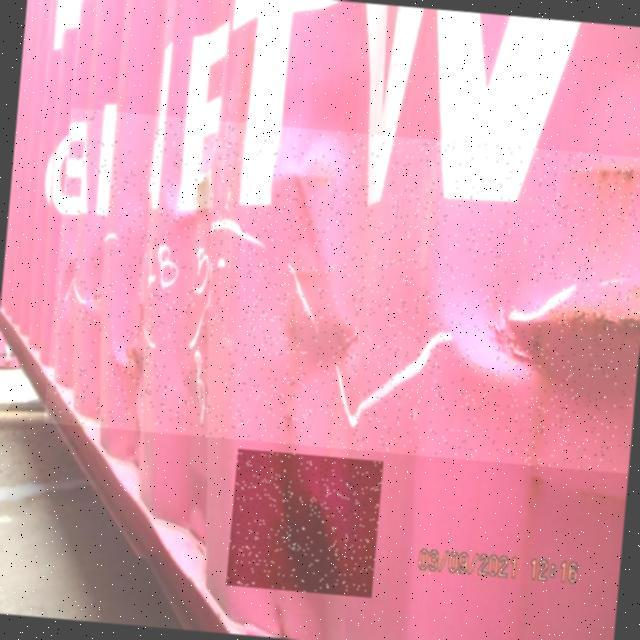Dent: (43, 108, 640, 474)
Minor-Dent: (226, 449, 383, 598)
